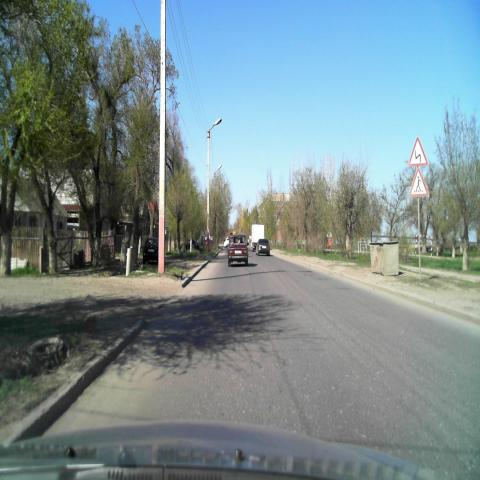1_12_2: (408, 136, 427, 166)
1_22: (408, 168, 428, 195)
